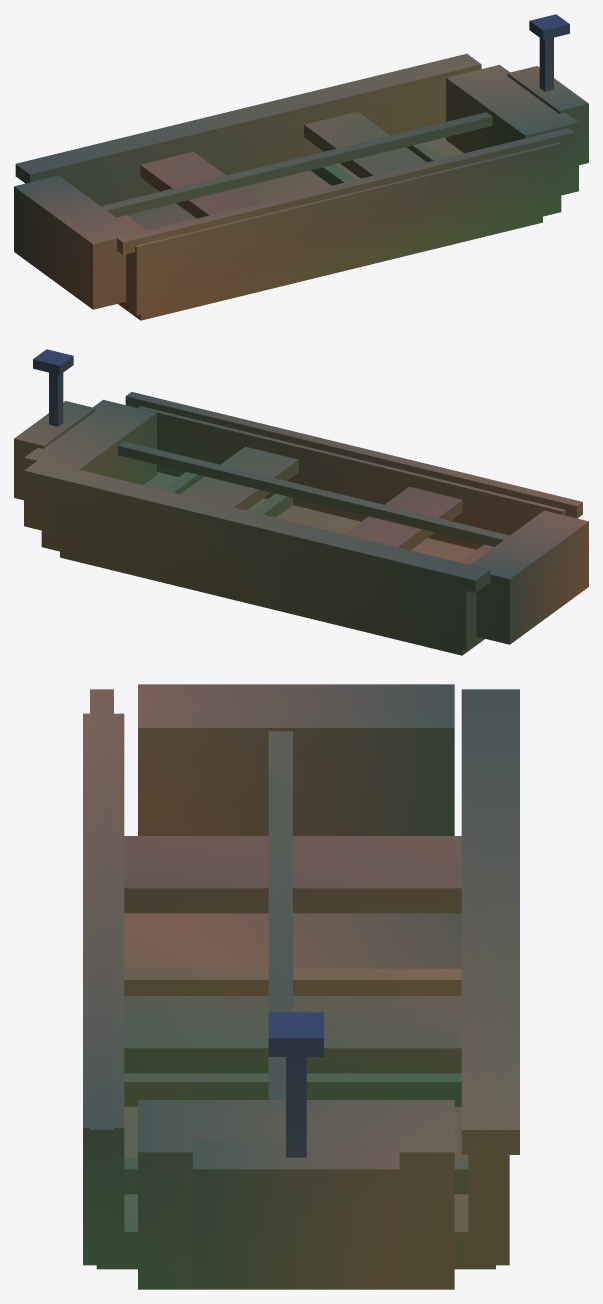
The model's file is ferry_skiff.glb.
The picture shows the model from 3 angles, top to bottom: view 1: azimuth 30°, elevation 25°; view 2: azimuth 150°, elevation 25°; view 3: azimuth 270°, elevation 25°; orthographic projection. The views are drawn at different scales.
Visible parts, largest first — view 1: skiff_hull, skiff_fittings, skiff_iron; view 2: skiff_hull, skiff_fittings, skiff_iron; view 3: skiff_hull, skiff_fittings, skiff_iron.
Boxes of the visible parts, box(x1,y1,x2,y2) form: skiff_hull: box(14, 53, 588, 320); skiff_fittings: box(101, 111, 492, 218); skiff_iron: box(529, 14, 569, 91); skiff_hull: box(14, 392, 588, 655); skiff_fittings: box(118, 441, 509, 550); skiff_iron: box(33, 349, 73, 426); skiff_hull: box(83, 684, 519, 1289); skiff_fittings: box(124, 731, 461, 1099); skiff_iron: box(268, 1012, 323, 1157).
Bounding box in the file's own units: 3.42 × 0.96 × 1.27.
